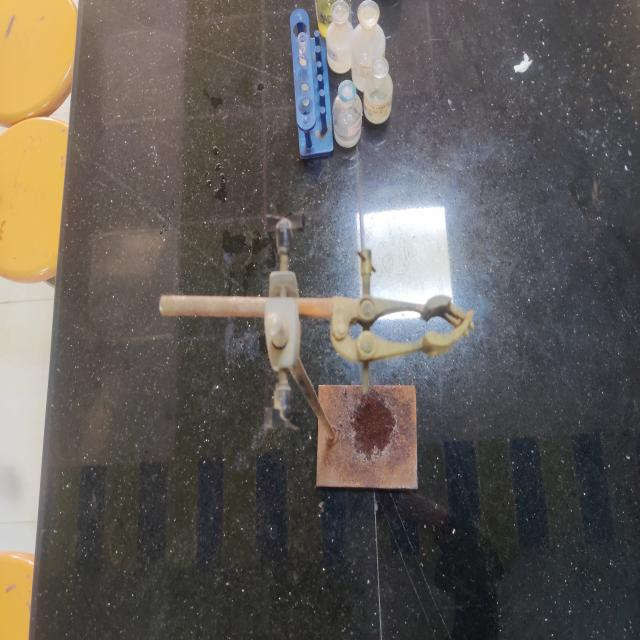Burette_Stands: (152, 208, 478, 533)
